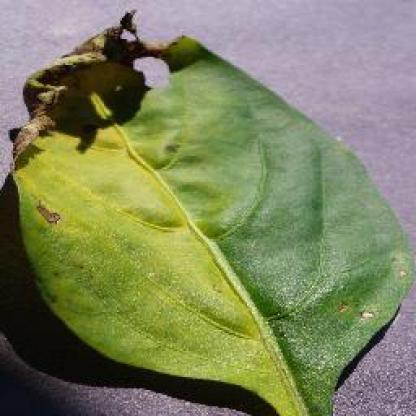bad leaf: (14, 7, 414, 414)
